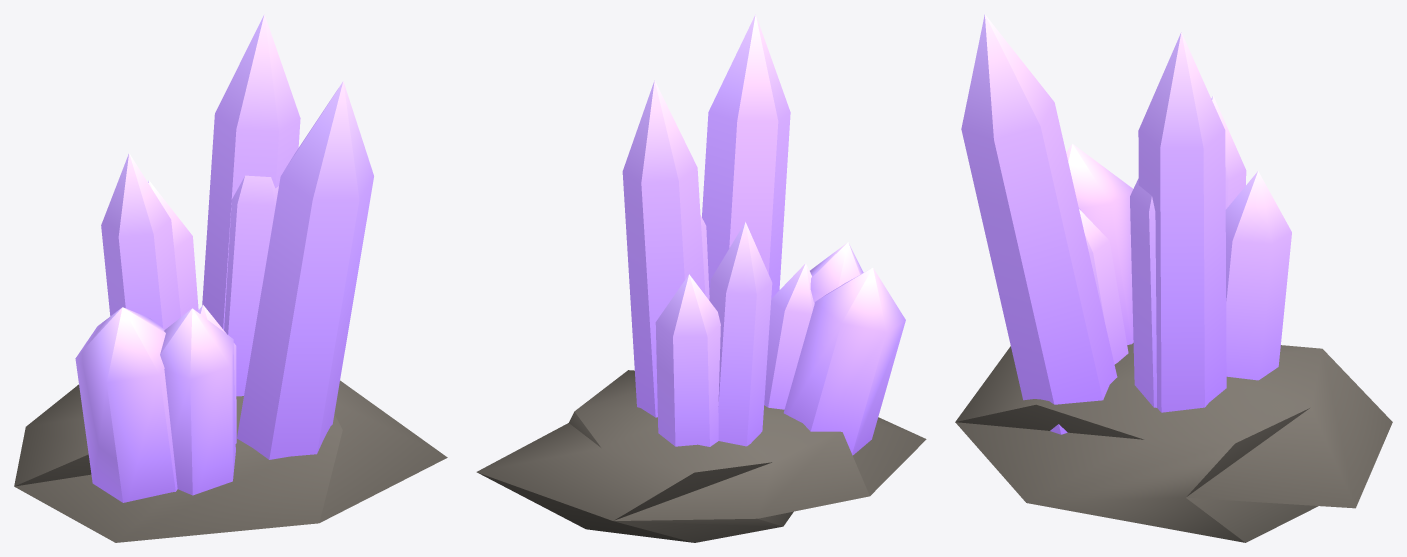
File: crystal_cluster.glb
3 renders of one model, left to right at view 1: azimuth 30°, elevation 25°; view 2: azimuth 150°, elevation 25°; view 3: azimuth 270°, elevation 25°, orthographic. The views are drawn at different scales.
Parts seen in each view (by area): view 1: crystal_cluster_glow, crystal_cluster; view 2: crystal_cluster_glow, crystal_cluster; view 3: crystal_cluster_glow, crystal_cluster.
Boxes of the visible parts, left/top/right/bottom form: crystal_cluster_glow: left=75, top=14, right=373, bottom=502; crystal_cluster: left=14, top=380, right=447, bottom=542; crystal_cluster_glow: left=622, top=14, right=905, bottom=455; crystal_cluster: left=476, top=370, right=926, bottom=542; crystal_cluster_glow: left=961, top=14, right=1291, bottom=434; crystal_cluster: left=955, top=343, right=1392, bottom=542.
Bounding box in the file's own units: 0.6664 × 0.8351 × 0.6825.
